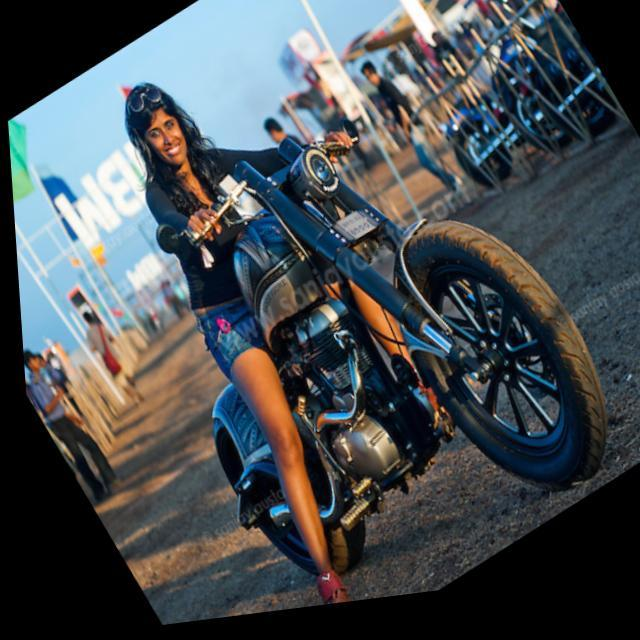Nonhelmet: (122, 68, 192, 174)
